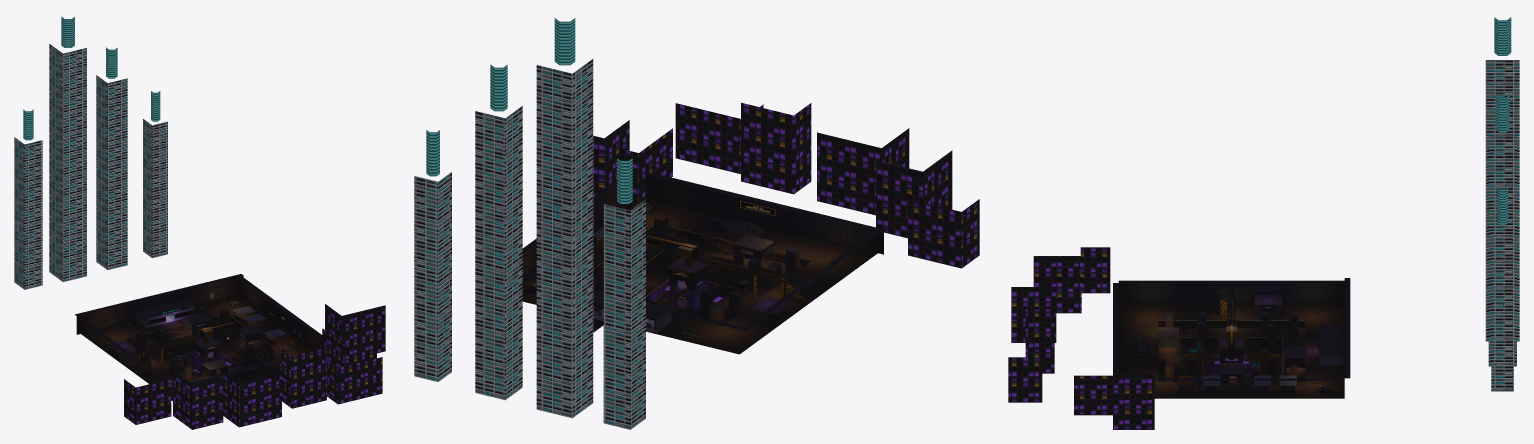
File: tech.glb
3 views of the same model, side by side, from view 1: azimuth 30°, elevation 25°; view 2: azimuth 150°, elevation 25°; view 3: azimuth 270°, elevation 25° (orthographic). The views are drawn at different scales.
Visible parts, largest first — view 1: tech_spire, tech_sprawl, tech_dirt, tech_scrapwall, tech_metal, tech_neon_cyan, tech_scrapwall2, tech_cut, tech_bale2, tech_bale, tech_dirt_dark, tech_crane (+3 smaller); view 2: tech_spire, tech_sprawl, tech_dirt, tech_scrapwall2, tech_metal, tech_neon_cyan, tech_cut, tech_bale2, tech_dirt_dark, tech_bale, tech_scrapwall, tech_crane (+3 smaller); view 3: tech_sprawl, tech_dirt, tech_spire, tech_scrapwall2, tech_metal, tech_cut, tech_neon_cyan, tech_dirt_dark, tech_bale2, tech_bale, tech_limbs, tech_tarp_cyan.
Boxes of the visible parts, x1,y1,x2,y2 form: tech_spire: (14, 44, 167, 289); tech_sprawl: (124, 304, 385, 429); tech_dirt: (81, 295, 315, 400); tech_scrapwall: (76, 275, 322, 375); tech_metal: (75, 274, 328, 388); tech_neon_cyan: (23, 17, 160, 140); tech_scrapwall2: (117, 319, 261, 378); tech_cut: (125, 315, 280, 371); tech_bale2: (130, 315, 280, 381); tech_bale: (132, 308, 279, 379); tech_dirt_dark: (156, 337, 255, 377); tech_crane: (132, 337, 220, 369); tech_spire: (414, 59, 645, 429); tech_sprawl: (593, 102, 979, 268); tech_dirt: (522, 196, 877, 354); tech_scrapwall2: (602, 175, 883, 326); tech_metal: (522, 172, 886, 330); tech_neon_cyan: (426, 18, 632, 204); tech_cut: (593, 224, 811, 332); tech_bale2: (651, 224, 802, 326); tech_dirt_dark: (646, 258, 763, 315); tech_bale: (654, 214, 799, 321); tech_scrapwall: (522, 185, 773, 278); tech_crane: (666, 258, 809, 307); tech_sprawl: (1008, 247, 1154, 429); tech_dirt: (1118, 303, 1344, 398); tech_spire: (1485, 60, 1519, 391); tech_scrapwall2: (1118, 283, 1344, 382); tech_metal: (1113, 278, 1350, 380); tech_cut: (1158, 320, 1304, 378); tech_neon_cyan: (1191, 17, 1511, 351); tech_dirt_dark: (1181, 345, 1282, 378); tech_bale2: (1165, 312, 1297, 381); tech_bale: (1165, 321, 1297, 381); tech_limbs: (1138, 330, 1326, 392); tech_tarp_cyan: (1203, 375, 1296, 385).
Size of the model in its own units: 132 by 137 by 181.
Materials: 53 (53 with a texture image).
